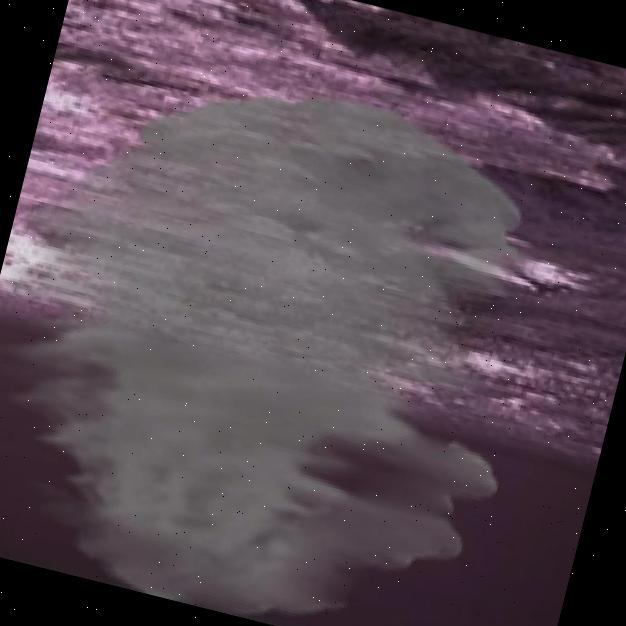smoke: (102, 122, 436, 519)
